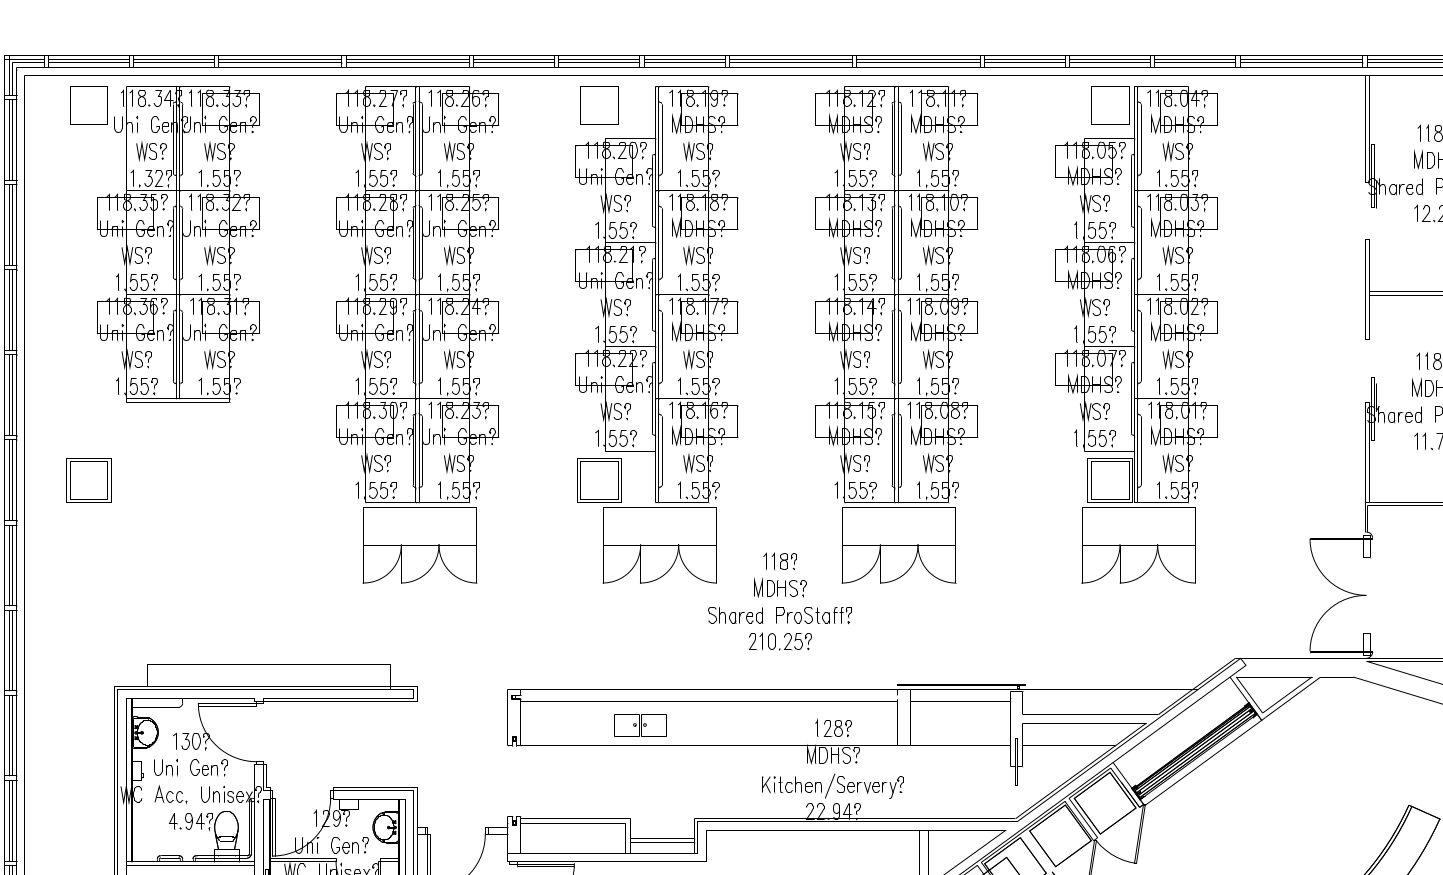door: (1301, 532, 1368, 655), (194, 701, 261, 770), (273, 789, 340, 859), (399, 543, 484, 597)
